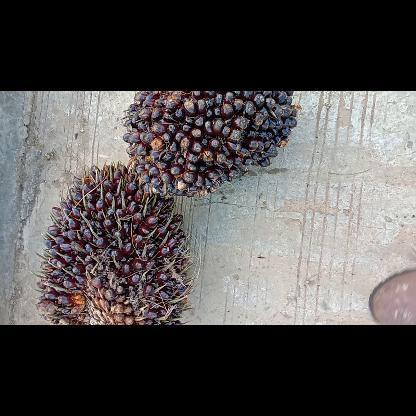TBS mentah: (37, 162, 192, 324), (121, 91, 299, 193)
